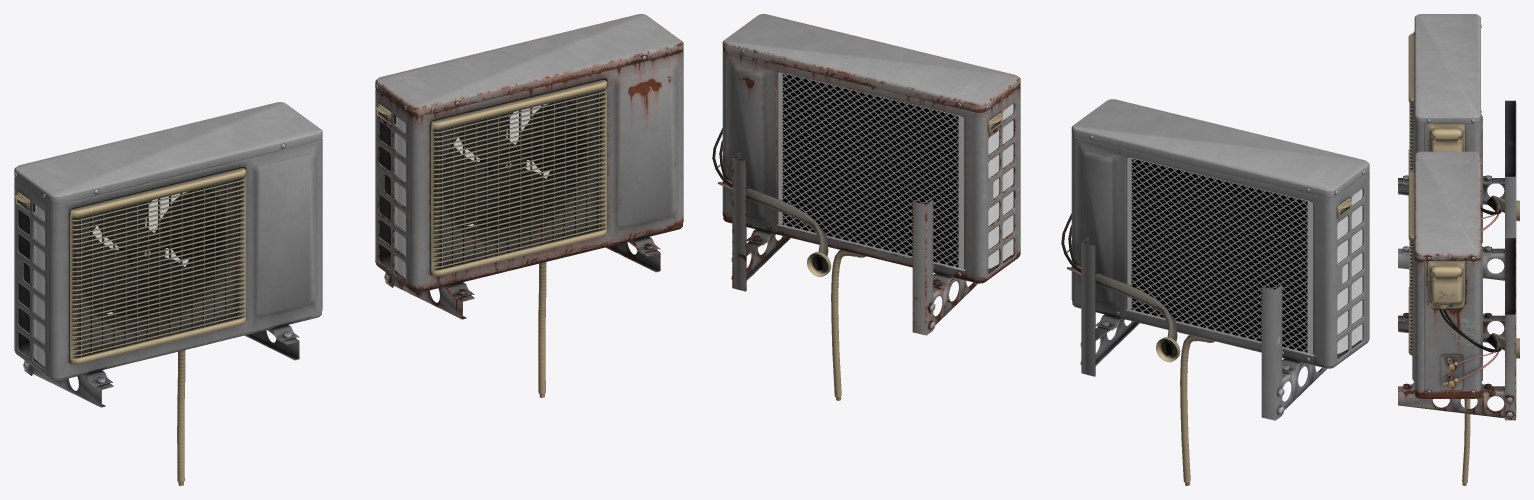
File: exterior_aircon_unit.glb
The picture shows the model from 3 angles, left to right: view 1: azimuth 30°, elevation 25°; view 2: azimuth 150°, elevation 25°; view 3: azimuth 270°, elevation 25°; orthographic projection. The views are drawn at different scales.
Visible parts, largest first — view 1: exterior_aircon_unit_rusted, exterior_aircon_unit; view 2: exterior_aircon_unit, exterior_aircon_unit_rusted; view 3: exterior_aircon_unit_rusted, exterior_aircon_unit.
Boxes of the visible parts, x1,y1,x2,y2 form: exterior_aircon_unit_rusted: (375, 14, 683, 397); exterior_aircon_unit: (14, 102, 322, 485); exterior_aircon_unit: (1061, 99, 1369, 485); exterior_aircon_unit_rusted: (712, 14, 1020, 400); exterior_aircon_unit_rusted: (1398, 151, 1519, 485); exterior_aircon_unit: (1398, 14, 1519, 280).
Bounding box in the file's own units: 1.8 × 0.9279 × 0.3742.
Materials: 4 (4 with a texture image).
